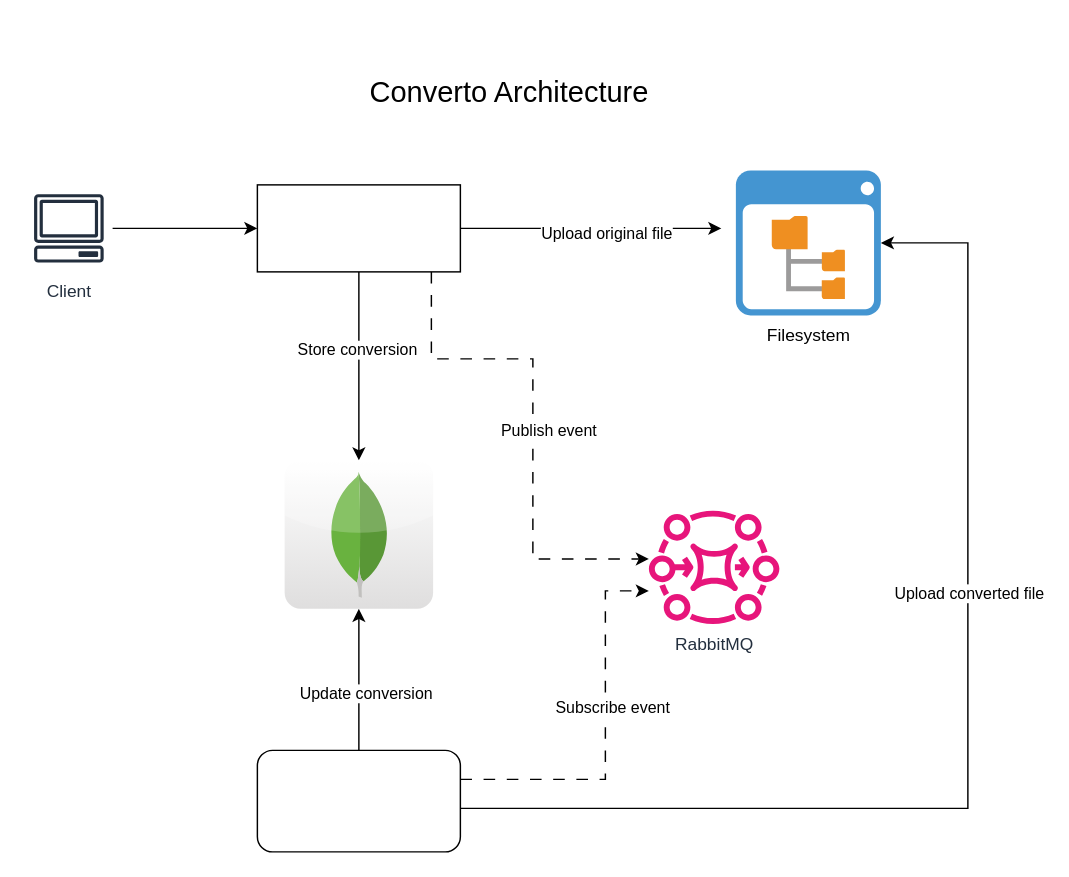
Image size: 1069x877. Some labels were removed from this diagram. The centre of each missing label's shape, as x and y in pixels:
"Server" goes at [358,227].
"Worker" goes at [358,800].
